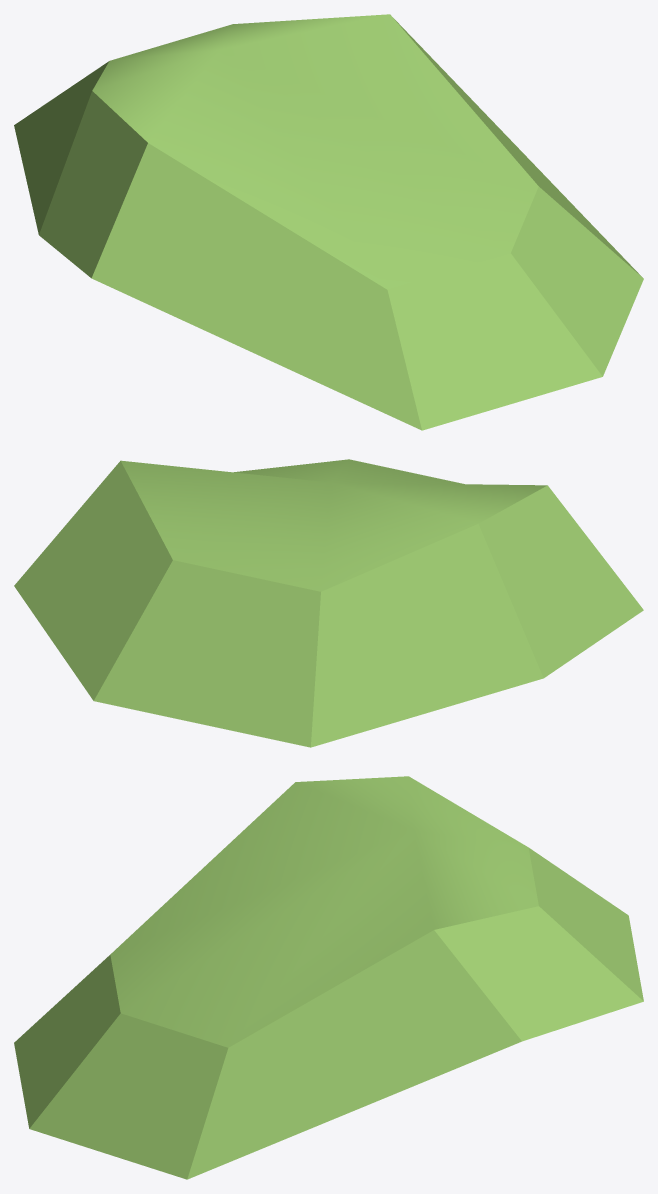
File: md_leaf2.fbx
3 views of the same model, one above another, from view 1: azimuth 30°, elevation 25°; view 2: azimuth 150°, elevation 25°; view 3: azimuth 270°, elevation 25° (orthographic). The views are drawn at different scales.
Visible parts, largest first — view 1: pCylinder2; view 2: pCylinder2; view 3: pCylinder2.
Part boxes in pixels (bbox=[...]): pCylinder2: bbox=[14, 14, 643, 430]; pCylinder2: bbox=[14, 459, 643, 747]; pCylinder2: bbox=[14, 776, 643, 1179].
Bounding box in the file's own units: 2.07 × 0.8728 × 2.31.
